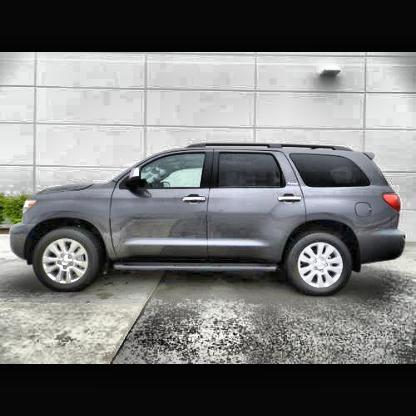Toyota Sequoia SUV 2012: (11, 143, 407, 300)
